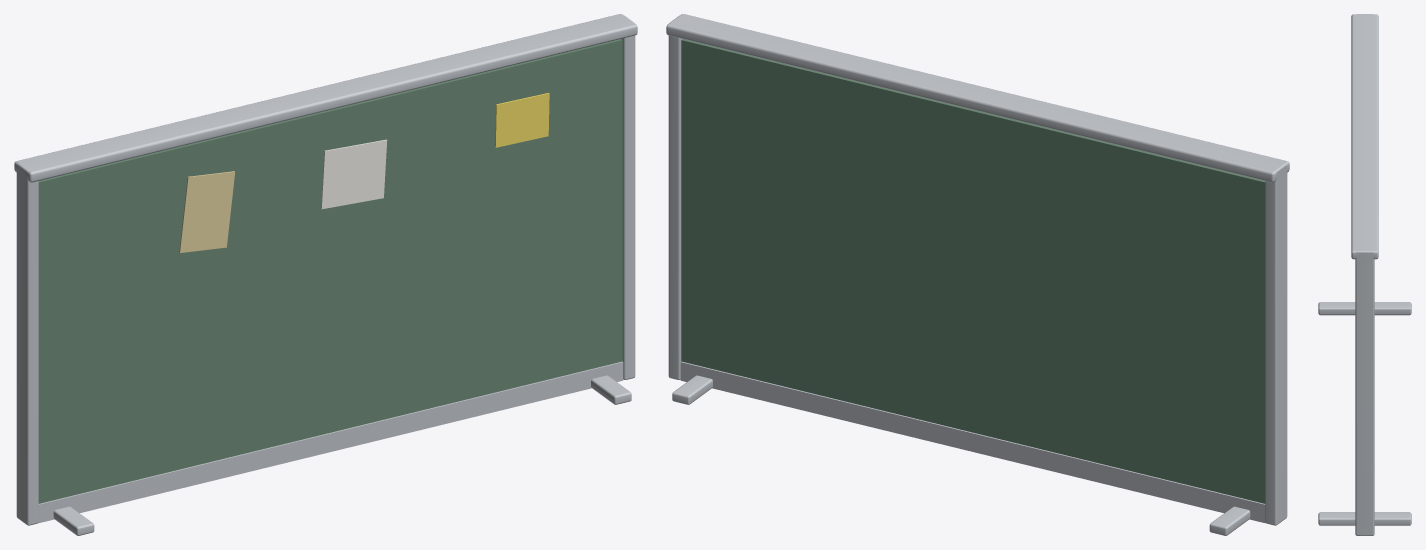
The model's file is CubicleBack.fbx.
3 views of the same model, side by side, from view 1: azimuth 30°, elevation 25°; view 2: azimuth 150°, elevation 25°; view 3: azimuth 270°, elevation 25° (orthographic). The views are drawn at different scales.
Parts seen in each view (by area): view 1: Fabric, CubicleBackBody; view 2: Fabric, CubicleBackBody; view 3: CubicleBackBody.
Part boxes in pixels (x1,y1,x2,y2): Fabric: [38, 39, 622, 503]; CubicleBackBody: [14, 14, 637, 535]; Fabric: [681, 39, 1265, 503]; CubicleBackBody: [666, 14, 1289, 535]; CubicleBackBody: [1318, 14, 1411, 535].
Bounding box in the file's own units: 2.06 × 1.15 × 0.34.
